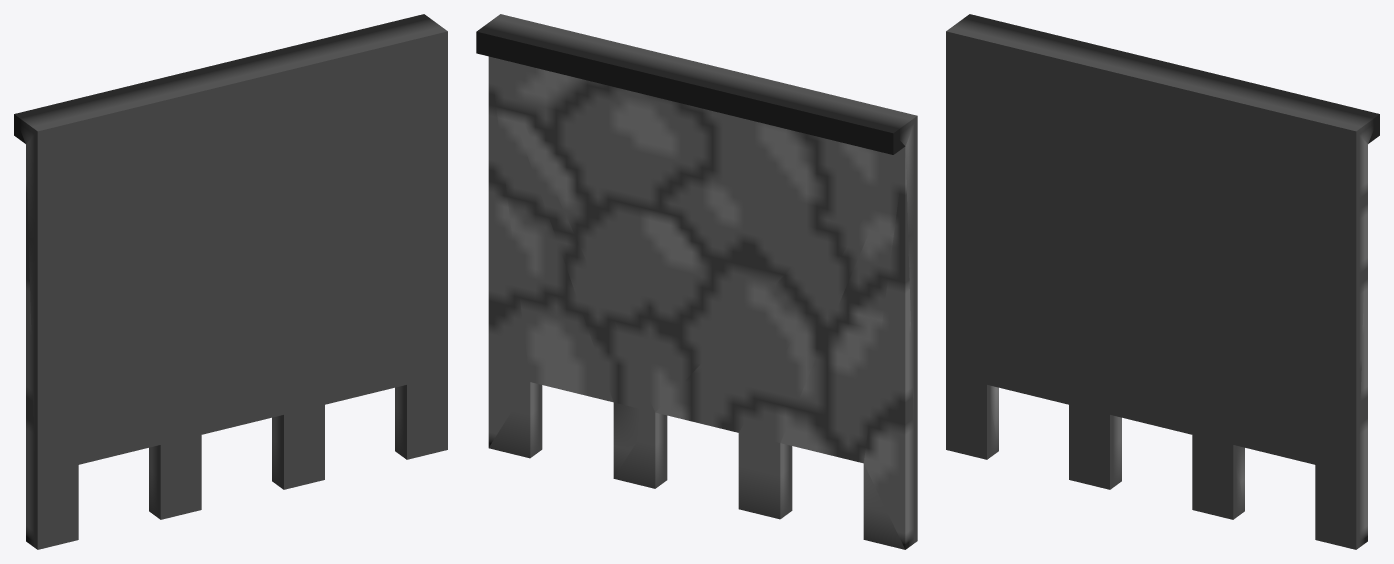
Rendered from WallDefaultTrain_L.fbx.
3 renders of one model, left to right at view 1: azimuth 30°, elevation 25°; view 2: azimuth 150°, elevation 25°; view 3: azimuth 330°, elevation 25°, orthographic.
Parts seen in each view (by area): view 1: walldefaulttrain_l.walldefaulttrain_l-0; view 2: walldefaulttrain_l.walldefaulttrain_l-0; view 3: walldefaulttrain_l.walldefaulttrain_l-0.
Boxes of the visible parts, bbox=[...] form: walldefaulttrain_l.walldefaulttrain_l-0: bbox=[14, 14, 447, 549]; walldefaulttrain_l.walldefaulttrain_l-0: bbox=[476, 14, 917, 549]; walldefaulttrain_l.walldefaulttrain_l-0: bbox=[946, 14, 1379, 549].
Size of the model in its own units: 400 by 390 by 40.
